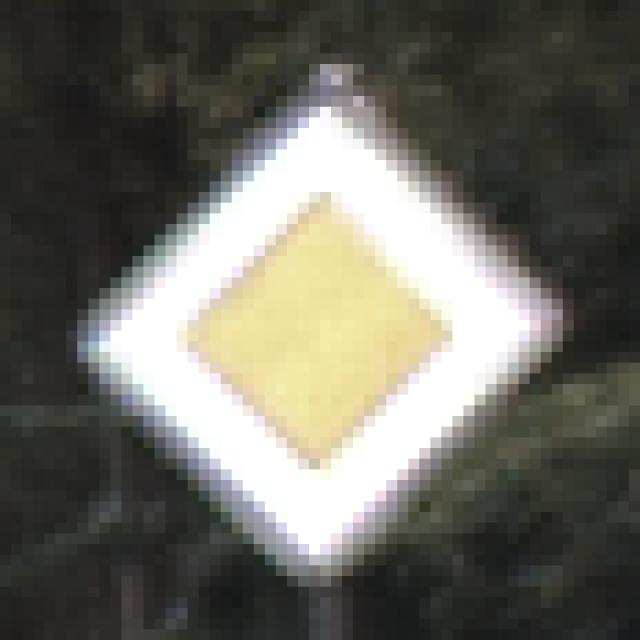Main Road: (56, 65, 586, 588)
